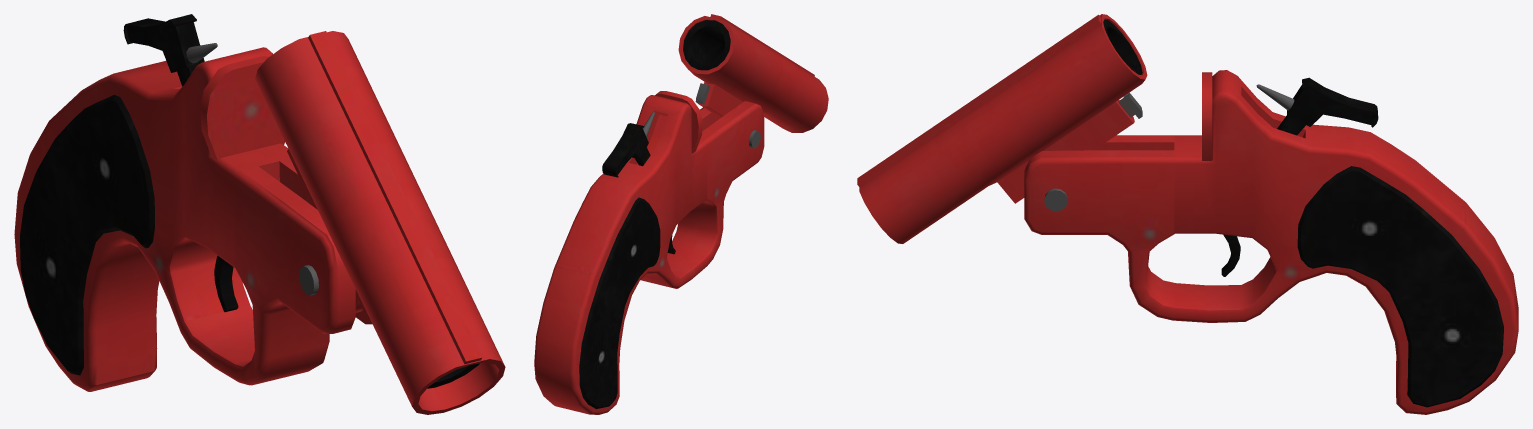
Rendered from flare_gun.glb.
3 renders of one model, left to right at view 1: azimuth 30°, elevation 25°; view 2: azimuth 150°, elevation 25°; view 3: azimuth 270°, elevation 25°, orthographic. The views are drawn at different scales.
Parts seen in each view (by area): view 1: Trigger; view 2: Trigger; view 3: Trigger.
Boxes of the visible parts, bbox=[...] form: Trigger: bbox=[14, 14, 505, 414]; Trigger: bbox=[534, 14, 828, 414]; Trigger: bbox=[857, 14, 1518, 414].
Size of the model in its own units: 0.0287 by 0.1546 by 0.24.
1 material, 1 textured.
